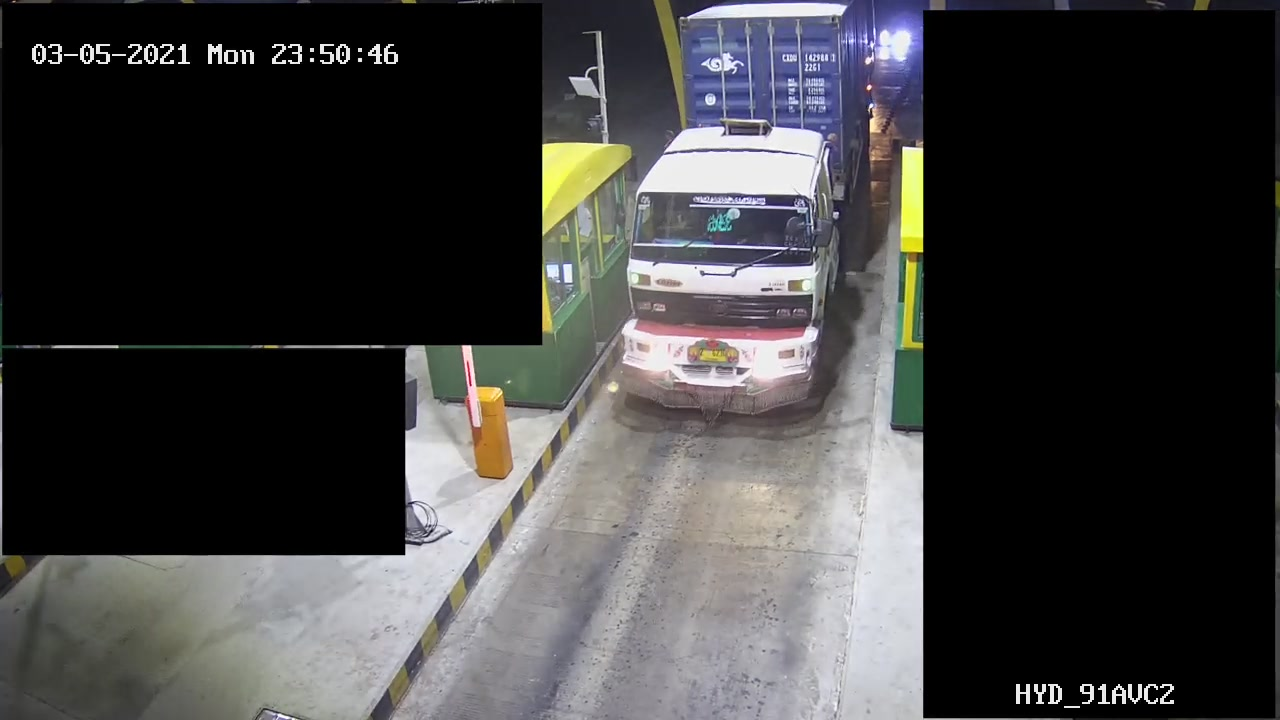F6: (613, 1, 882, 430)
